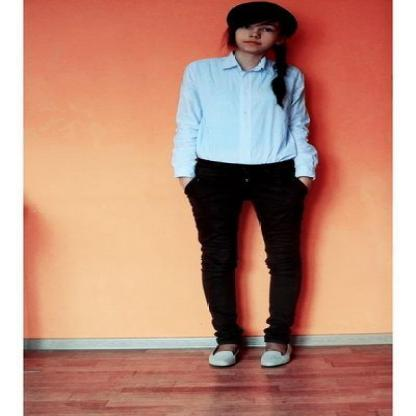pants: (184, 158, 307, 352)
shirt: (172, 53, 317, 183)
shoe: (208, 341, 287, 366)
